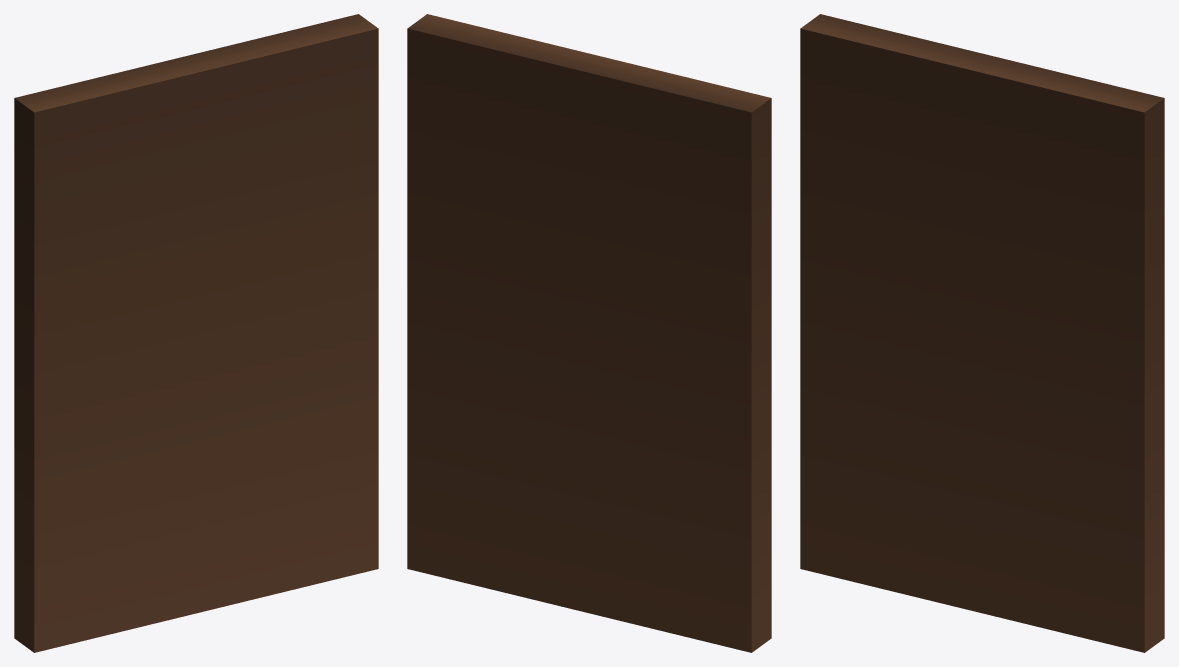
The model's file is KIT_Door_Wood_2.glb.
3 renders of one model, left to right at view 1: azimuth 30°, elevation 25°; view 2: azimuth 150°, elevation 25°; view 3: azimuth 330°, elevation 25°, orthographic.
Parts seen in each view (by area): view 1: KIT_Door_Wood_2; view 2: KIT_Door_Wood_2; view 3: KIT_Door_Wood_2.
Boxes of the visible parts, x1,y1,x2,y2 form: KIT_Door_Wood_2: (14,14,378,652); KIT_Door_Wood_2: (407,14,771,652); KIT_Door_Wood_2: (800,14,1164,652).
Bounding box in the file's own units: 2 × 3 × 0.2.
1 material, 1 textured.
